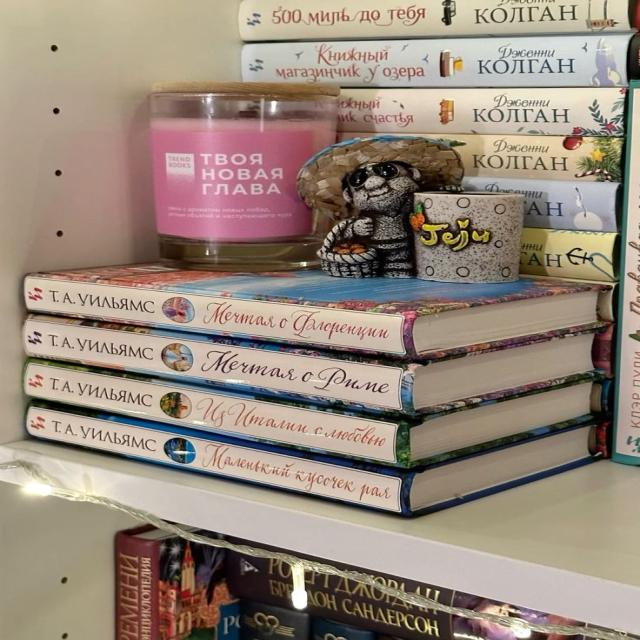book: (27, 404, 409, 513), (24, 361, 403, 465), (23, 318, 415, 414), (25, 274, 412, 356), (241, 31, 630, 87), (238, 0, 629, 42), (337, 88, 625, 138), (428, 135, 621, 182), (463, 176, 616, 231), (521, 227, 616, 281)
candle: (147, 82, 338, 271)
